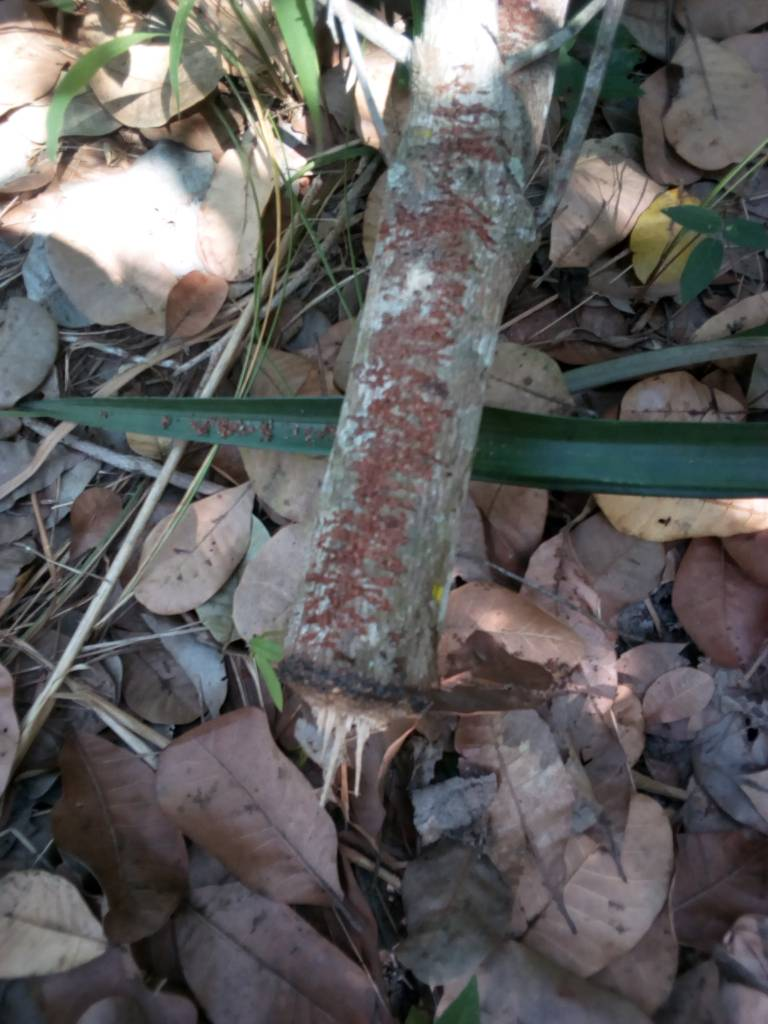Analepse trifasciata: (261, 639, 469, 782)
